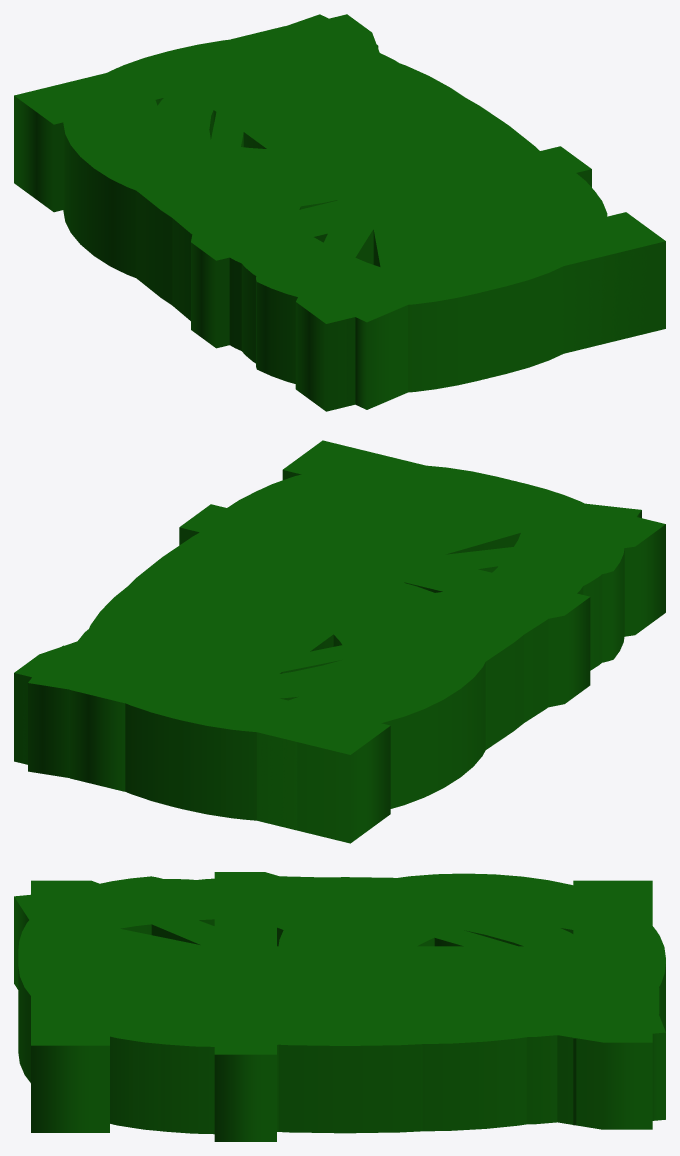
Rendered from Suji 1.fbx.
The picture shows the model from 3 angles, top to bottom: view 1: azimuth 30°, elevation 25°; view 2: azimuth 150°, elevation 25°; view 3: azimuth 270°, elevation 25°; orthographic projection.
Parts seen in each view (by area): view 1: テキスト, テキスト.002, テキスト.001, テキスト.005, テキスト.004, テキスト.009, テキスト.007, テキスト.006, テキスト.003, テキスト.008; view 2: テキスト, テキスト.007, テキスト.009, テキスト.002, テキスト.004, テキスト.006, テキスト.001, テキスト.008, テキスト.005, テキスト.003; view 3: テキスト, テキスト.004, テキスト.007, テキスト.002, テキスト.009, テキスト.006, テキスト.001, テキスト.003, テキスト.008, テキスト.005.
Boxes of the visible parts, x1,y1,x2,y2 form: テキスト: (90,41,582,375); テキスト.002: (63,37,665,411); テキスト.001: (66,42,650,406); テキスト.005: (67,16,598,392); テキスト.004: (191,26,599,348); テキスト.009: (63,40,515,409); テキスト.007: (14,14,464,304); テキスト.006: (142,14,603,374); テキスト.003: (72,36,606,379); テキスト.008: (78,38,607,377); テキスト: (90,469,588,749); テキスト.007: (14,497,582,843); テキスト.009: (85,498,641,820); テキスト.002: (78,440,665,820); テキスト.004: (70,457,590,791); テキスト.006: (28,464,592,777); テキスト.001: (134,444,642,730); テキスト.008: (80,466,617,806); テキスト.005: (23,468,624,830); テキスト.003: (73,466,621,811); テキスト: (18,877,662,1133); テキスト.004: (31,872,659,1141); テキスト.007: (31,880,652,1129); テキスト.002: (31,879,665,1132); テキスト.009: (14,873,665,1131); テキスト.006: (18,876,665,1134); テキスト.001: (31,890,661,1038); テキスト.003: (18,878,665,1131); テキスト.008: (18,879,665,1128); テキスト.005: (18,876,652,1125).
Bounding box in the file's own units: 17.94 × 4 × 27.08.
